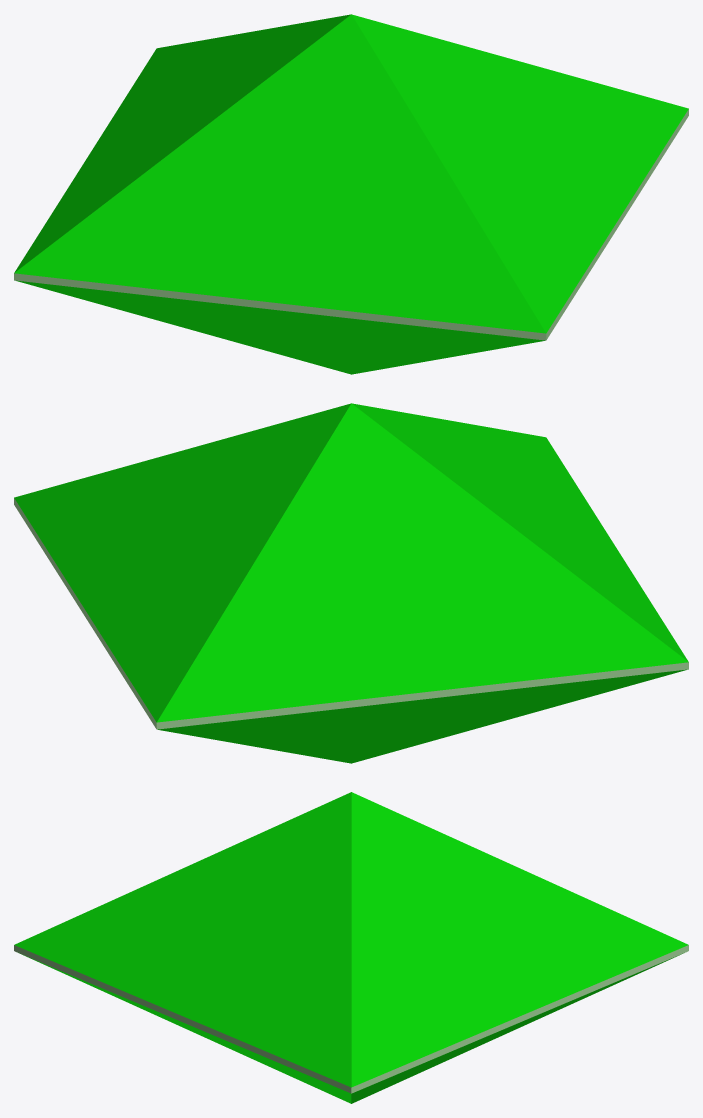
File: EXP_Green.fbx
The picture shows the model from 3 angles, top to bottom: view 1: azimuth 30°, elevation 25°; view 2: azimuth 150°, elevation 25°; view 3: azimuth 270°, elevation 25°; orthographic projection. The views are drawn at different scales.
Parts seen in each view (by area): view 1: pCone3; view 2: pCone3; view 3: pCone3.
Part boxes in pixels (x1=…): pCone3: x1=14, y1=14, x2=688, y2=374; pCone3: x1=14, y1=403, x2=688, y2=763; pCone3: x1=14, y1=792, x2=688, y2=1103.
Bounding box in the file's own units: 2 × 1.02 × 2.
